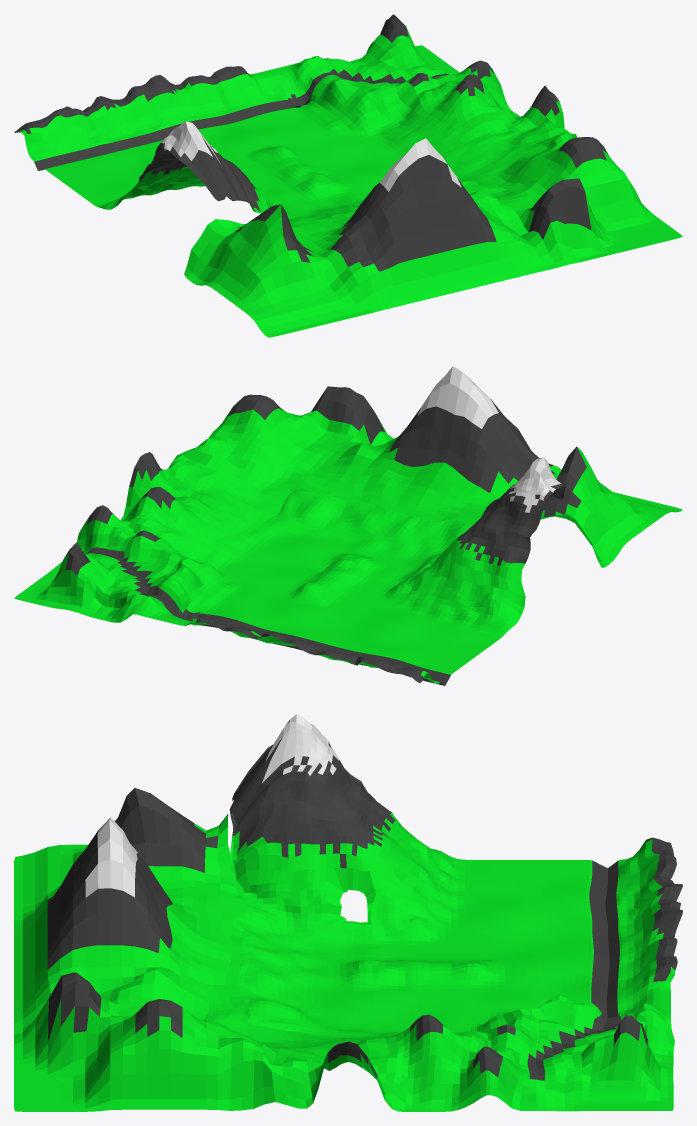
Rendered from Moutains.glb.
3 views of the same model, one above another, from view 1: azimuth 30°, elevation 25°; view 2: azimuth 150°, elevation 25°; view 3: azimuth 270°, elevation 25° (orthographic). The views are drawn at different scales.
Visible parts, largest first — view 1: Plane; view 2: Plane; view 3: Plane.
Boxes of the visible parts, left/top/right/bottom form: Plane: left=14, top=14, right=682, bottom=337; Plane: left=14, top=366, right=682, bottom=685; Plane: left=14, top=714, right=682, bottom=1111.
Size of the model in its own units: 694 by 213 by 760.
